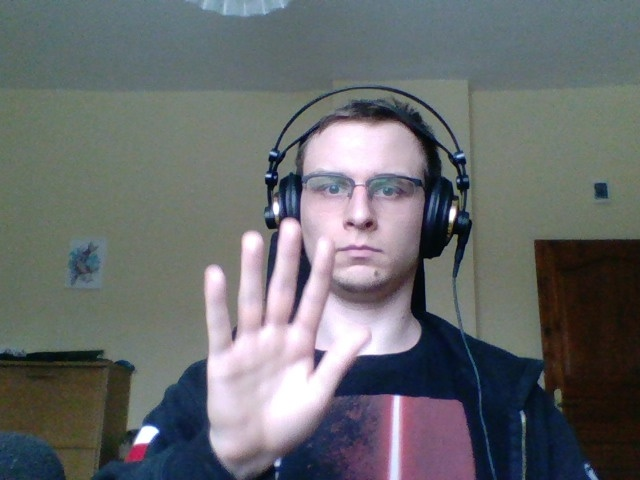hello: (203, 218, 374, 474)
